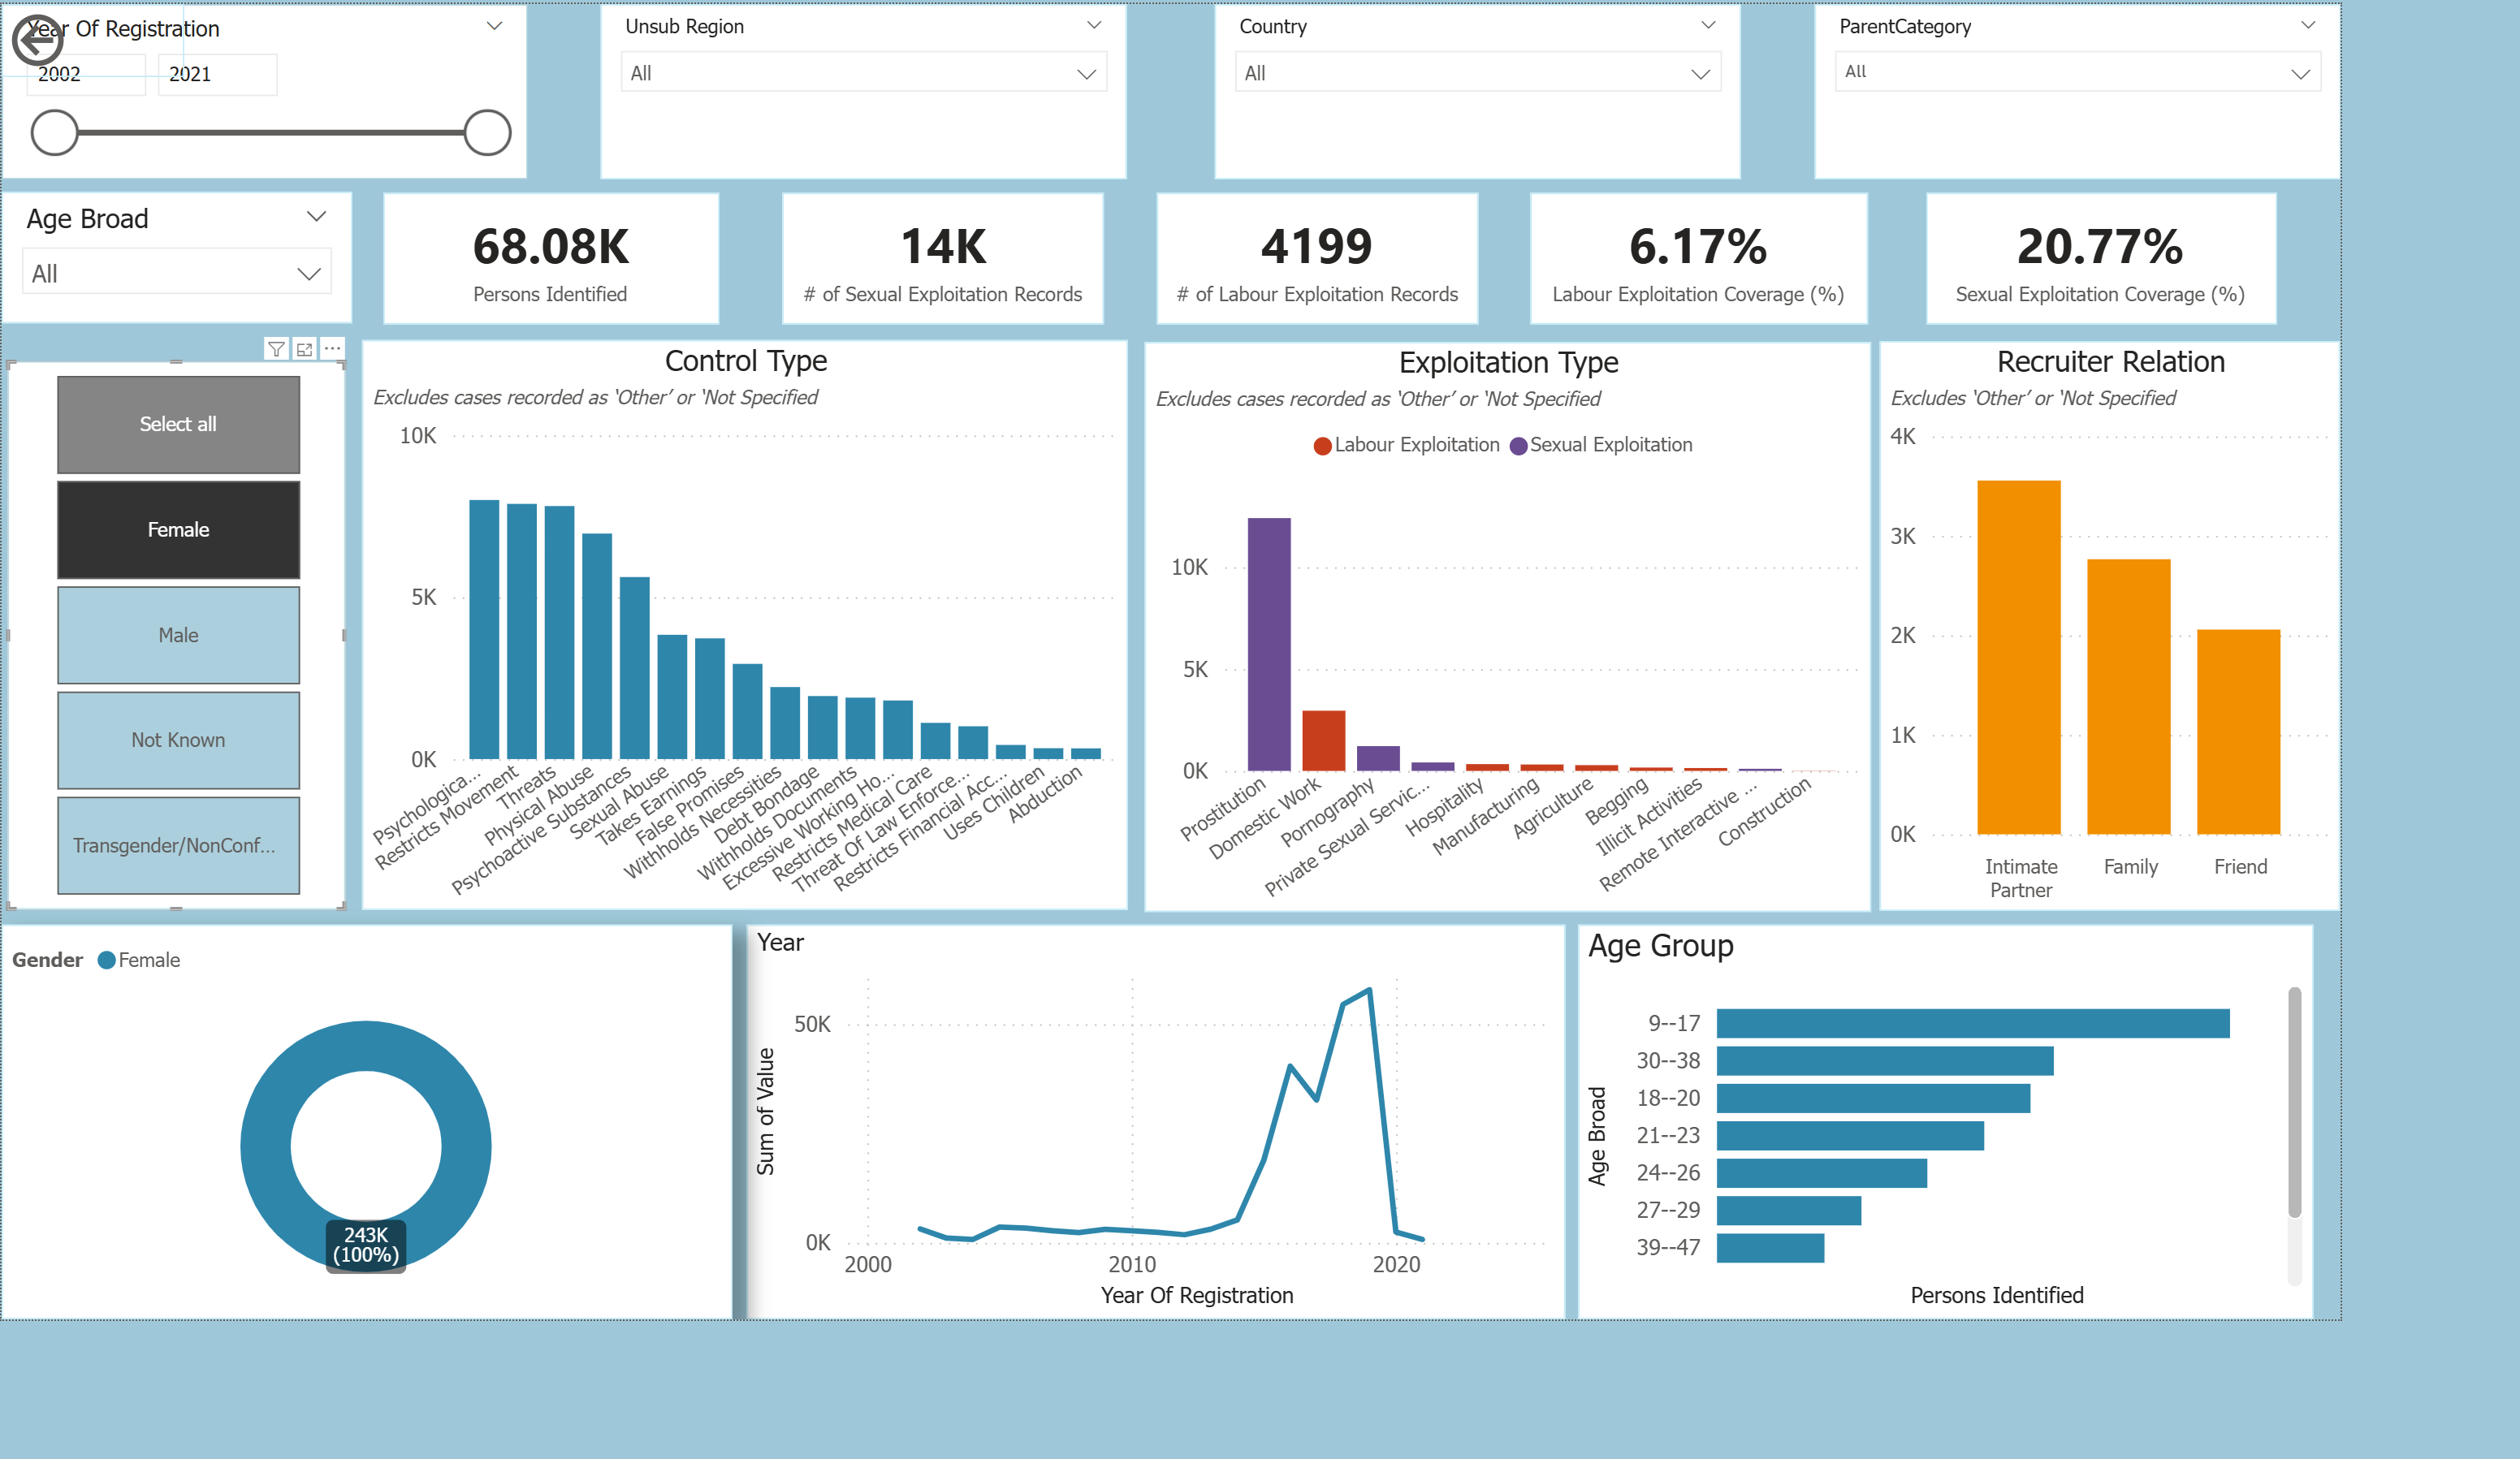

What the dashboard file says about the page in this screenshot:
{"tool":"powerbi","page":{"name":"Overview","canvas":[1280,720],"ordinal":0},"visuals":[{"type":"card","fields":{"Values":["CTDC.Persons Identified"]},"box":[209.1,103.1,183.8,72],"z":0},{"type":"lineChart","title":"Year ","fields":{"Category":["CTDC.Year Of Registration"],"Y":["Sum(CTDC.Value)"]},"box":[408,504,448,216],"z":1000},{"type":"donutChart","title":"Gender","fields":{"Category":["CTDC.Gender"],"Y":["Sum(CTDC.Value)"]},"box":[0,503.8,399.8,215.9],"z":2000},{"type":"card","fields":{"Values":["CTDC.LabourExploitationCount"]},"box":[632.2,103.1,176,72],"z":3000},{"type":"card","fields":{"Values":["CTDC.SexualExploitationCompleteness"]},"box":[1053.4,103.1,191.6,72],"z":4000},{"type":"card","fields":{"Values":["CTDC.LabourExploitationCompleteness"]},"box":[836.5,103.1,184.8,72],"z":5000},{"type":"barChart","title":"Age Group","fields":{"Category":["CTDC.Age Broad"],"Y":["CTDC.Persons Identified"]},"box":[862.7,503.8,402.7,215.9],"z":6000},{"type":"slicer","fields":{"Values":["CTDC.Year Of Registration"]},"box":[0,0,288,96],"z":7000},{"type":"slicer","fields":{"Values":["CTDC.Gender"]},"box":[3.6,195.7,185,300.2],"z":8000},{"type":"slicer","fields":{"Values":["CTDC.ParentCategory"]},"box":[992,0,288,96],"z":9000},{"type":"slicer","fields":{"Values":["CTDC.Age Broad"]},"box":[0,102.9,191.6,71.9],"z":10000},{"type":"slicer","fields":{"Values":["CTDC.Country"]},"box":[664,0,288,96],"z":11000},{"type":"columnChart","title":"Recruiter Relation","fields":{"Y":["CTDC.Exploitation Instances"],"Category":["CTDC.SubCategory"],"Series":["CTDC.ParentCategory_Clean2"]},"box":[1027.6,184.2,252.4,311.8],"z":12000},{"type":"columnChart","title":"Control Type","fields":{"Y":["CTDC.Exploitation Instances"],"Category":["CTDC.SubCategory"],"Series":["CTDC.ParentCategory_Clean2"]},"box":[197.4,183.8,419.2,312.2],"z":13000},{"type":"columnChart","title":"Exploitation Type","fields":{"Y":["CTDC.Exploitation Instances"],"Category":["CTDC.SubCategory"],"Series":["CTDC.ParentCategory_Clean2"]},"box":[625.6,185.2,397.2,311.8],"z":14000},{"type":"card","fields":{"Values":["CTDC.SexualExploitationCount"]},"box":[427,103.1,176,72],"z":15000},{"type":"actionButton","box":[0,0,100,40],"z":16000},{"type":"slicer","fields":{"Values":["CTDC.Unsub Region"]},"box":[328,0,288,96],"z":17000}]}

Visuals, with their boxes in screenshot pixels (x1, y1, x2, y2), scaled from the page's 1280x720 canvas onto the 2520x1459 screenshot:
card - CTDC.Persons Identified: rect(412, 209, 773, 355)
"Year " lineChart: rect(803, 1021, 1685, 1458)
"Gender" donutChart: rect(0, 1021, 787, 1458)
card - CTDC.LabourExploitationCount: rect(1245, 209, 1591, 355)
card - CTDC.SexualExploitationCompleteness: rect(2074, 209, 2451, 355)
card - CTDC.LabourExploitationCompleteness: rect(1647, 209, 2011, 355)
"Age Group" barChart: rect(1698, 1021, 2492, 1458)
slicer - CTDC.Year Of Registration: rect(0, 0, 567, 195)
slicer - CTDC.Gender: rect(7, 396, 371, 1005)
slicer - CTDC.ParentCategory: rect(1953, 0, 2519, 195)
slicer - CTDC.Age Broad: rect(0, 209, 377, 354)
slicer - CTDC.Country: rect(1308, 0, 1874, 195)
"Recruiter Relation" columnChart: rect(2023, 373, 2519, 1005)
"Control Type" columnChart: rect(389, 373, 1214, 1005)
"Exploitation Type" columnChart: rect(1232, 375, 2013, 1007)
card - CTDC.SexualExploitationCount: rect(841, 209, 1187, 355)
actionButton: rect(0, 0, 197, 81)
slicer - CTDC.Unsub Region: rect(646, 0, 1212, 195)
